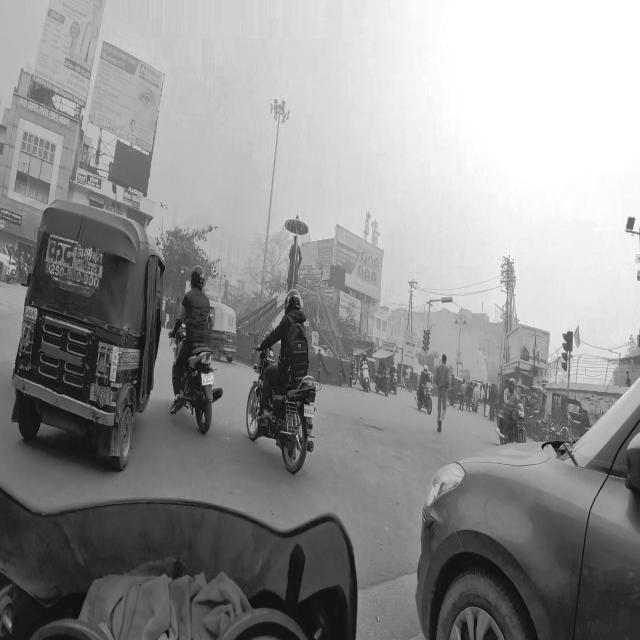Auto-Rickshaw: (14, 196, 169, 482)
Bike: (251, 284, 327, 496), (171, 268, 228, 442), (493, 378, 531, 444), (414, 361, 434, 414), (375, 358, 391, 398), (360, 351, 372, 396), (390, 361, 400, 397)
Car: (414, 359, 640, 636)
